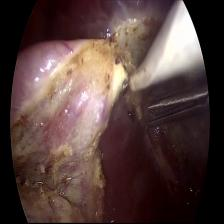Grasper: (143, 83, 207, 136)
Hook: (120, 5, 198, 99)
